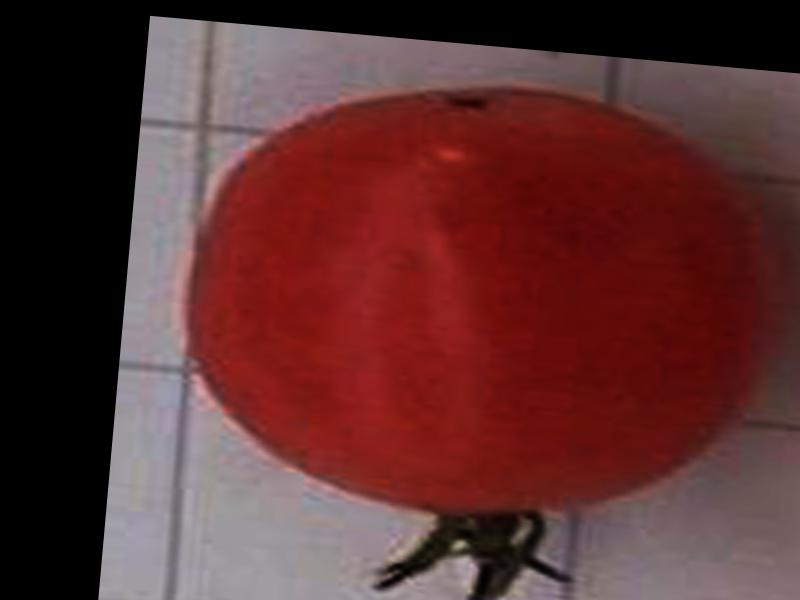Tomato: (172, 60, 792, 538)
